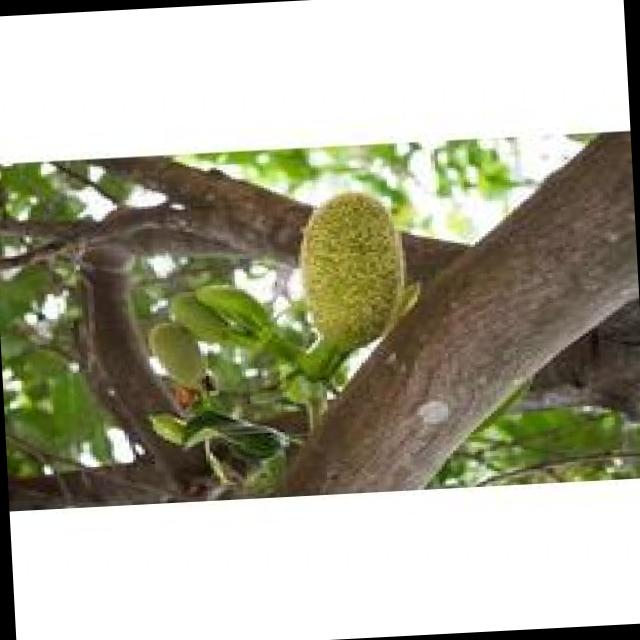Fruit: (278, 172, 426, 384)
